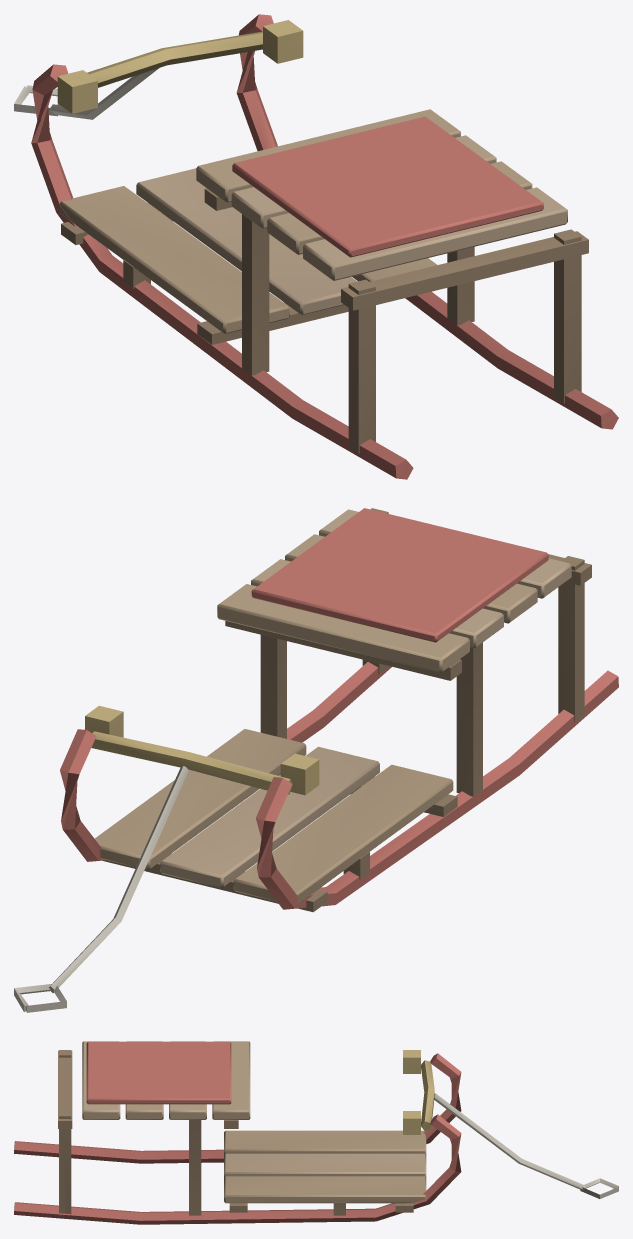
File: ride_sled_low.glb
3 renders of one model, top to bottom at view 1: azimuth 30°, elevation 25°; view 2: azimuth 150°, elevation 25°; view 3: azimuth 270°, elevation 25°, orthographic. The views are drawn at different scales.
Visible parts, largest first — view 1: ride_sled; view 2: ride_sled; view 3: ride_sled.
Boxes of the visible parts, box(x1,y1,x2,y2) form: ride_sled: box(14, 14, 618, 479); ride_sled: box(14, 508, 618, 1012); ride_sled: box(14, 1041, 618, 1224).
Bounding box in the file's own units: 0.46 × 0.3761 × 1.67.
